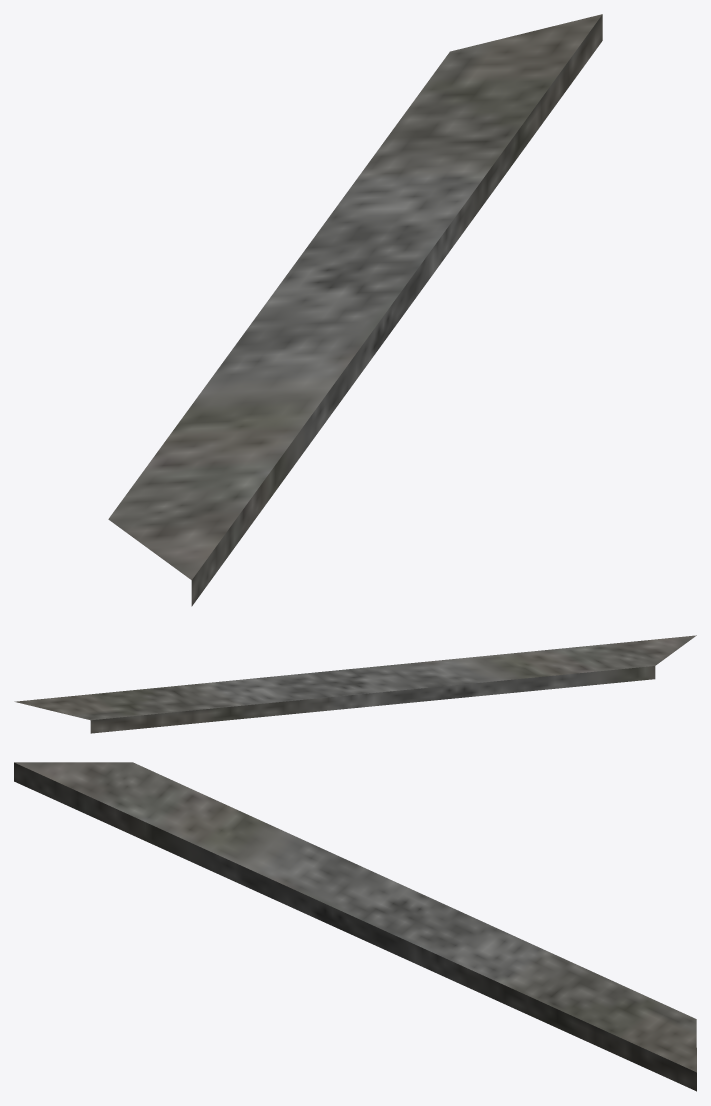
Rendered from furniture_bedmetalpiece_bunker.glb.
The picture shows the model from 3 angles, top to bottom: view 1: azimuth 30°, elevation 25°; view 2: azimuth 150°, elevation 25°; view 3: azimuth 270°, elevation 25°; orthographic projection. The views are drawn at different scales.
Bounding box in the file's own units: 12.72 × 0.3635 × 11.84.
Materials: 1 (1 with a texture image).
